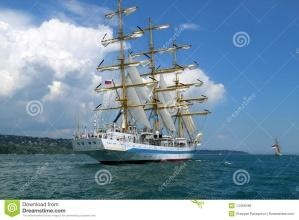fanchuan: (71, 7, 208, 162)
